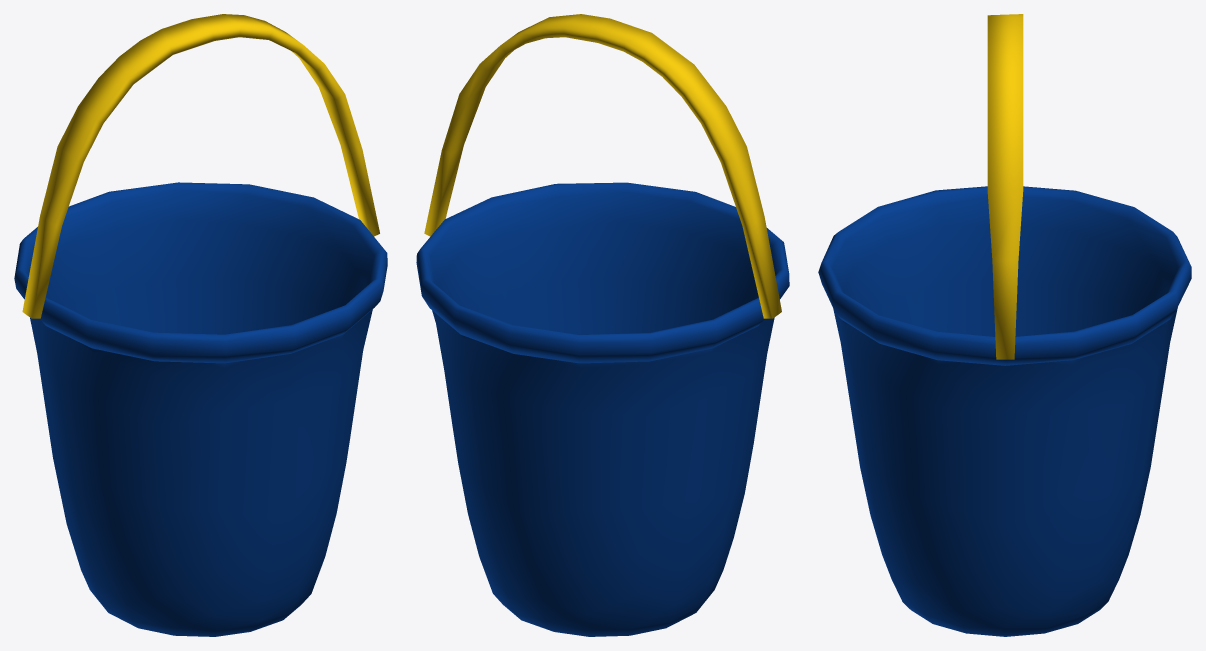
Rendered from beach bucket.fbx.
3 views of the same model, side by side, from view 1: azimuth 30°, elevation 25°; view 2: azimuth 150°, elevation 25°; view 3: azimuth 270°, elevation 25° (orthographic).
Visible parts, largest first — view 1: Bucket; view 2: Bucket; view 3: Bucket.
Boxes of the visible parts, x1,y1,x2,y2 form: Bucket: (14,14,387,636); Bucket: (416,14,789,636); Bucket: (818,14,1191,636).
Size of the model in its own units: 33.76 by 52.85 by 31.6.
